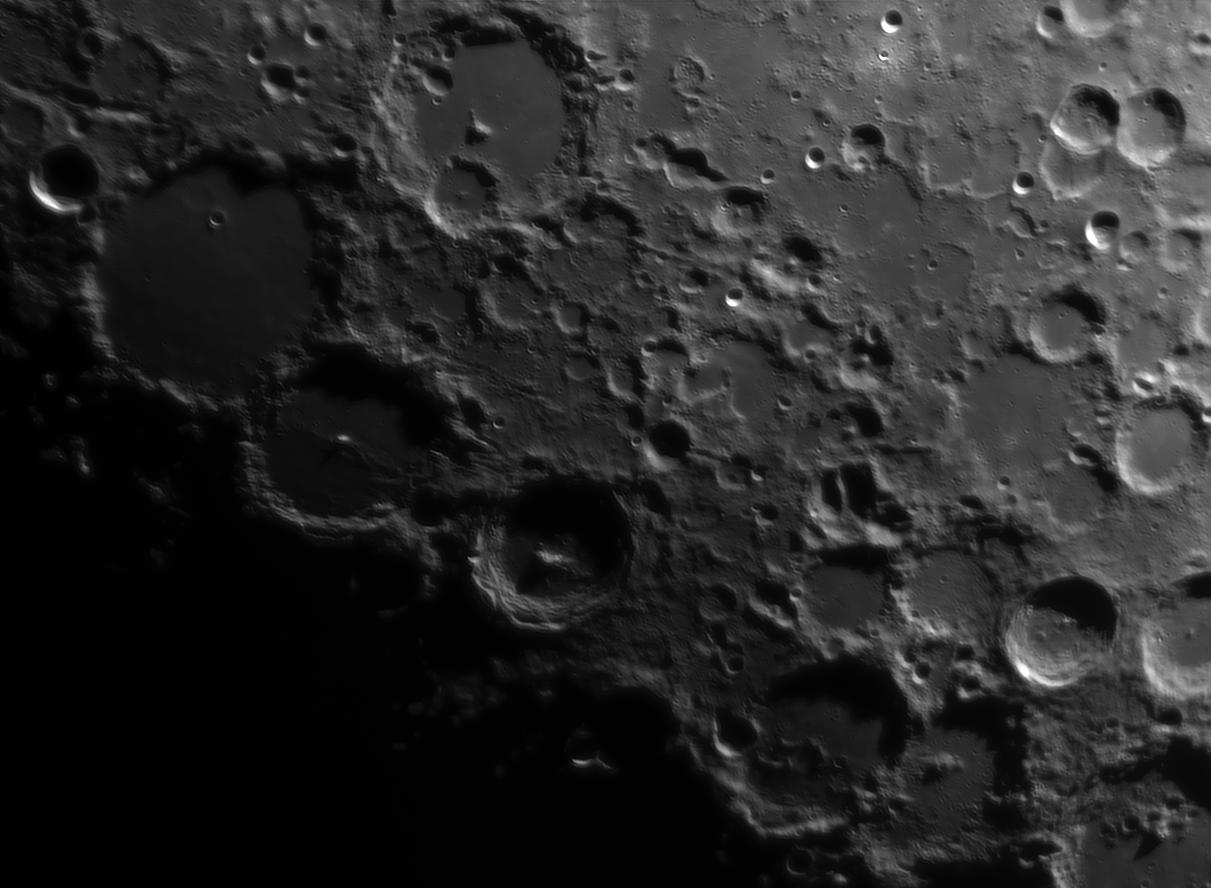crater: (77, 113, 359, 425), (343, 2, 627, 291), (438, 449, 649, 666), (982, 565, 1135, 712), (1094, 375, 1209, 512), (994, 271, 1127, 376), (610, 388, 722, 493), (686, 173, 775, 247), (983, 148, 1068, 215)
